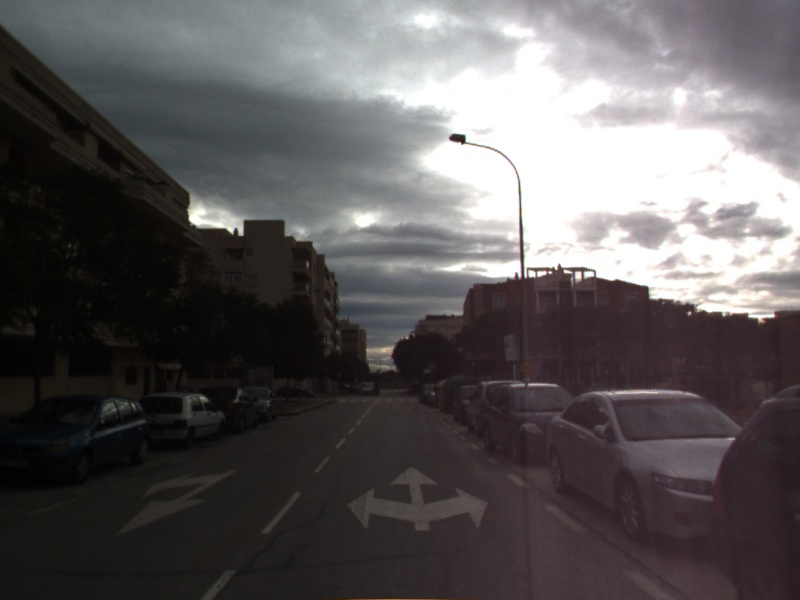STRAIGHT_LEFT_RIGHT: (343, 463, 493, 535)
